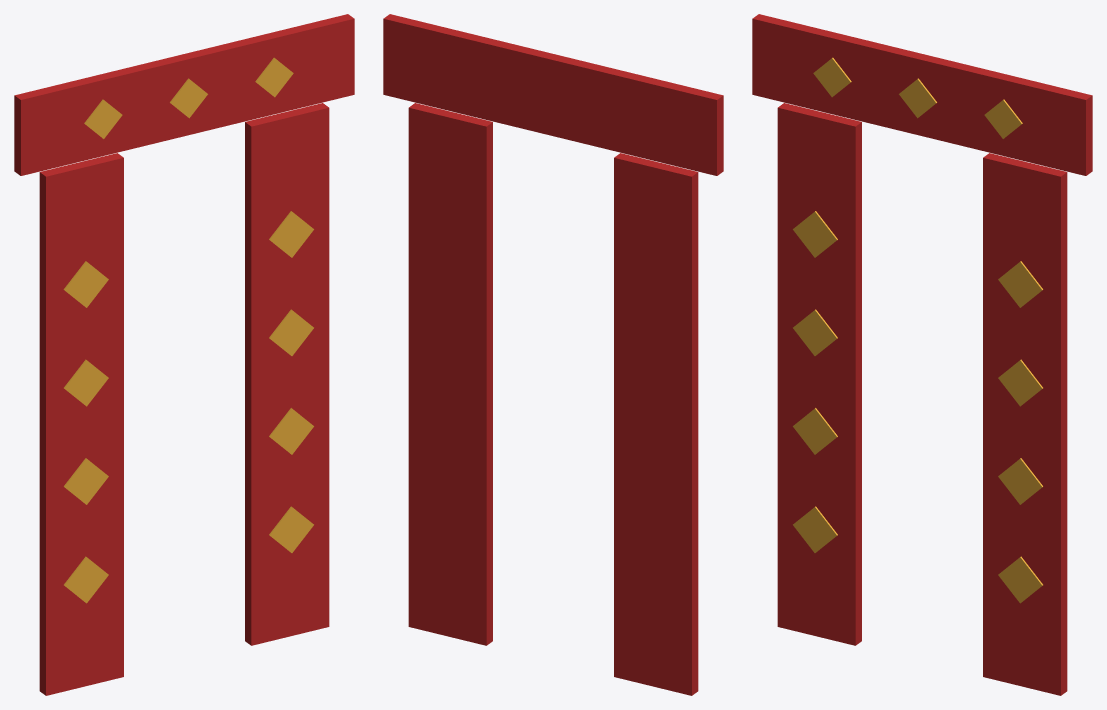
Rendered from scendance-plan-cn-couplet.glb.
The picture shows the model from 3 angles, left to right: view 1: azimuth 30°, elevation 25°; view 2: azimuth 150°, elevation 25°; view 3: azimuth 330°, elevation 25°; orthographic projection.
Bounding box in the file's own units: 0.39 × 0.6725 × 0.0165.
